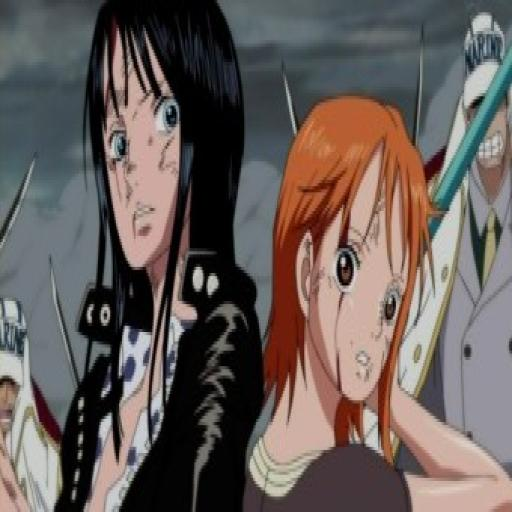Nami: (259, 93, 440, 436)
NicoRobin: (84, 0, 230, 284)
